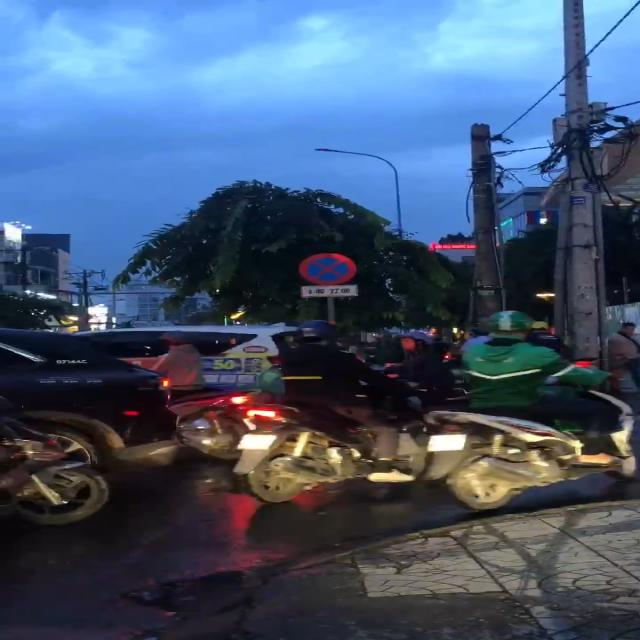Bien bao cam dung xe va do xe: (294, 250, 359, 288)
